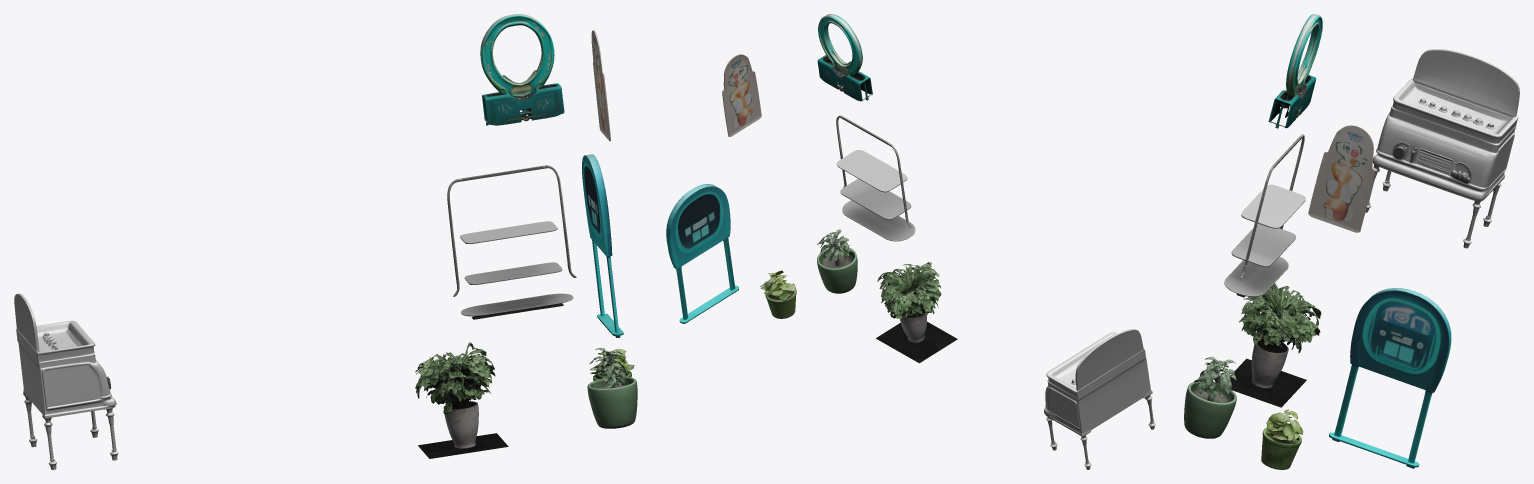
Rendered from gallery-sage-f4d6add8-lowres.glb.
3 renders of one model, left to right at view 1: azimuth 30°, elevation 25°; view 2: azimuth 150°, elevation 25°; view 3: azimuth 270°, elevation 25°, orthographic. The views are drawn at different scales.
Visible parts, largest first — view 1: instance_7, instance_3, instance_6, instance_5, instance_0, instance_1, instance_4; view 2: instance_7, instance_5, instance_0, instance_3, instance_6, instance_4, instance_1, instance_2; view 3: instance_7, instance_0, instance_3, instance_5, instance_4, instance_1, instance_6, instance_2.
Boxes of the visible parts, x1,y1,x2,y2 form: instance_7: (14, 293, 118, 469); instance_3: (415, 342, 508, 458); instance_6: (480, 14, 564, 125); instance_5: (447, 165, 576, 319); instance_0: (582, 154, 623, 337); instance_1: (587, 348, 637, 428); instance_4: (591, 30, 610, 141); instance_7: (1044, 329, 1155, 469); instance_5: (836, 115, 915, 241); instance_0: (666, 184, 738, 323); instance_3: (876, 262, 957, 363); instance_6: (817, 14, 872, 101); instance_4: (722, 54, 761, 136); instance_1: (817, 229, 857, 293); instance_2: (760, 270, 796, 318); instance_7: (1365, 49, 1519, 248); instance_0: (1329, 288, 1451, 468); instance_3: (1230, 283, 1321, 407); instance_5: (1224, 134, 1305, 297); instance_4: (1308, 125, 1374, 232); instance_1: (1184, 356, 1236, 438); instance_6: (1268, 14, 1322, 128); instance_2: (1261, 409, 1303, 469).
Bounding box in the file's own units: 1.8 × 1.22 × 0.8996.
Materials: 8 (8 with a texture image).
